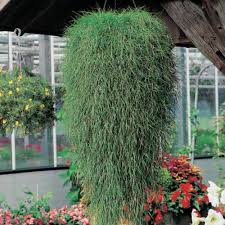bamboo: (66, 10, 171, 213)
